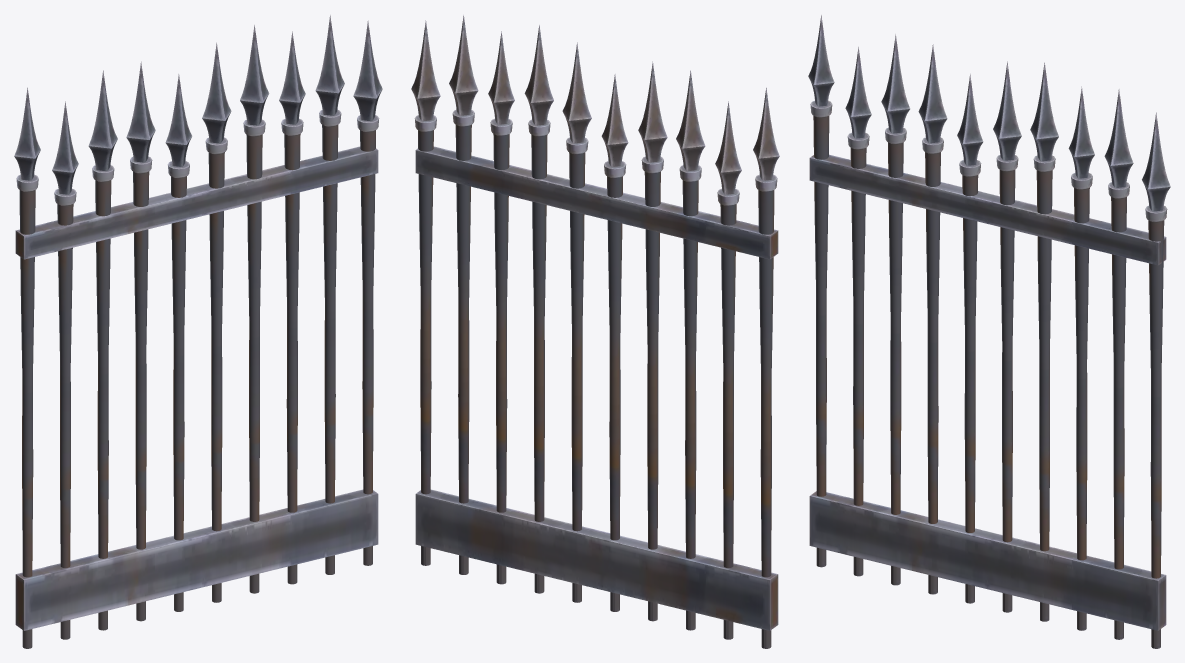
File: fence_metal_simple.glb
3 views of the same model, side by side, from view 1: azimuth 30°, elevation 25°; view 2: azimuth 150°, elevation 25°; view 3: azimuth 330°, elevation 25° (orthographic).
Visible parts, largest first — view 1: Prop_MetalFence_Simple; view 2: Prop_MetalFence_Simple; view 3: Prop_MetalFence_Simple.
Part boxes in pixels (x1=…): Prop_MetalFence_Simple: x1=14, y1=15, x2=382, y2=648; Prop_MetalFence_Simple: x1=411, y1=15, x2=779, y2=648; Prop_MetalFence_Simple: x1=808, y1=15, x2=1170, y2=648.
Bounding box in the file's own units: 1.95 × 2.87 × 0.1562.
1 material, 1 textured.
